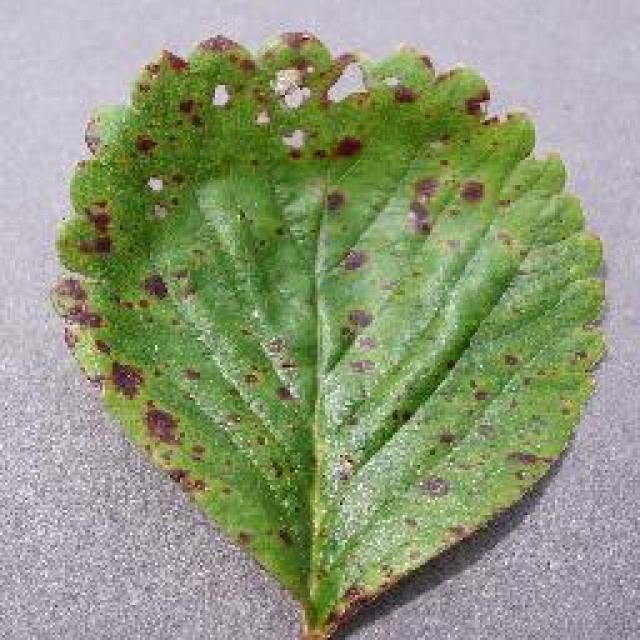Strawberry leaf scorch: (92, 63, 540, 580)
